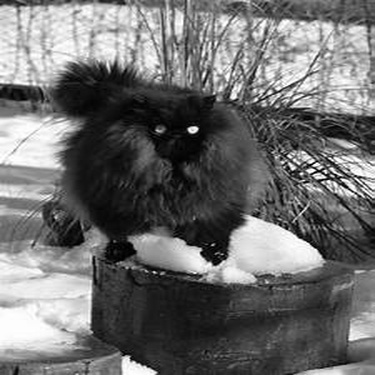cat: (39, 62, 259, 267)
